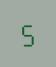five: (19, 20, 35, 46)
